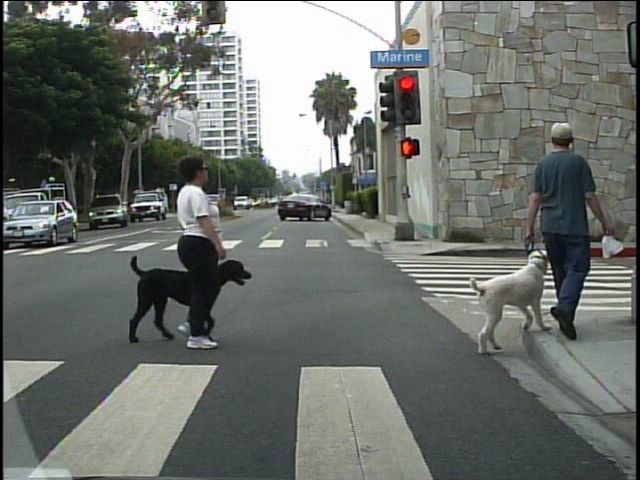person: (526, 113, 618, 348), (151, 144, 246, 348)
